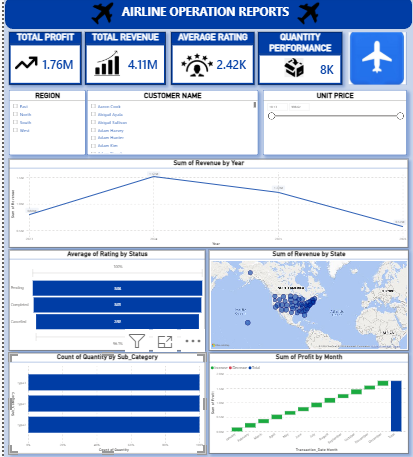

What the dashboard file says about the page in this screenshot:
{"tool":"powerbi","page":{"name":"Page 1","canvas":[1500,1800],"ordinal":0},"visuals":[{"type":"shape","box":[5,5,1470,115],"z":0},{"type":"lineChart","fields":{"Category":["02_Airline_Operations.Transaction_Date.Variation.Date Hierarchy.Year","02_Airline_Operations.Transaction_Date.Variation.Date Hierarchy.Quarter","02_Airline_Operations.Transaction_Date.Variation.Date Hierarchy.Month","02_Airline_Operations.Transaction_Date.Variation.Date Hierarchy.Day"],"Y":["Sum(02_Airline_Operations.Revenue)"]},"box":[20,592,1460,324],"z":1000},{"type":"cardVisual","title":"TOTAL REVENUE","fields":{"Data":["Sum(02_Airline_Operations.Revenue)"]},"box":[297.5,127.5,295,192.5],"z":2000},{"type":"cardVisual","title":"TOTAL PROFIT","fields":{"Data":["Sum(02_Airline_Operations.Profit)"]},"box":[17.5,127.5,265,192.5],"z":3000},{"type":"cardVisual","title":"AVERAGE RATING","fields":{"Data":["Sum(02_Airline_Operations.Rating)"]},"box":[610,127.5,305,192.5],"z":4000},{"type":"cardVisual","title":"QUANTITY PERFORMANCE","fields":{"Data":["Sum(02_Airline_Operations.Quantity)"]},"box":[930,127.5,307.5,192.5],"z":5000},{"type":"textbox","box":[322.5,20,830,80],"z":6000},{"type":"image","box":[1260,127.5,212.5,192.5],"z":7000},{"type":"slicer","title":"REGION","fields":{"Values":["02_Airline_Operations.Region"]},"box":[18,342,280,238],"z":8000},{"type":"slicer","title":"CUSTOMER NAME","fields":{"Values":["02_Airline_Operations.Customer_Name"]},"box":[304,342,626,238],"z":9000},{"type":"image","box":[323.3,186.7,135,101.7],"z":10000},{"type":"slicer","title":"UNIT PRICE","fields":{"Values":["02_Airline_Operations.Unit_Price"]},"box":[946,342,526,238],"z":11000},{"type":"image","box":[45,215,83.3,73.3],"z":12000},{"type":"image","box":[623.3,206.7,140,86.7],"z":13000},{"type":"funnel","fields":{"Category":["02_Airline_Operations.Status"],"Y":["Avg(02_Airline_Operations.Rating)"]},"box":[20,926,718,368],"z":14000},{"type":"image","box":[1008,224,102,70],"z":15000},{"type":"map","fields":{"Category":["02_Airline_Operations.State"],"Size":["Sum(02_Airline_Operations.Revenue)"]},"box":[750,926,730,368],"z":16000},{"type":"hundredPercentStackedBarChart","fields":{"Y":["CountNonNull(02_Airline_Operations.Quantity)"],"Category":["02_Airline_Operations.Sub_Category"]},"box":[20,1304,718,368],"z":17000},{"type":"waterfallChart","fields":{"Category":["02_Airline_Operations.Transaction_Date.Variation.Date Hierarchy.Month"],"Y":["Sum(02_Airline_Operations.Profit)"]},"box":[750,1304,730,368],"z":18000},{"type":"image","box":[250,6,222,106],"z":19000},{"type":"image","box":[1004,6,222,106],"z":20000}]}

Visuals, with their boxes on the page's 1500x1800 design canvas (x1, y1, x2, y2). These are canvas units, not pixel positions in the 413x457 screenshot, which may show the page scaled, cropped or inside an application window:
shape: locate(5, 5, 1475, 120)
lineChart - 02_Airline_Operations.Transaction_Date.Variation.Date Hierarchy.Year x 02_Airline_Operations.Transaction_Date.Variation.Date Hierarchy.Quarter: locate(20, 592, 1480, 916)
"TOTAL REVENUE" cardVisual: locate(298, 128, 592, 320)
"TOTAL PROFIT" cardVisual: locate(18, 128, 282, 320)
"AVERAGE RATING" cardVisual: locate(610, 128, 915, 320)
"QUANTITY PERFORMANCE" cardVisual: locate(930, 128, 1238, 320)
textbox: locate(322, 20, 1152, 100)
image: locate(1260, 128, 1472, 320)
"REGION" slicer: locate(18, 342, 298, 580)
"CUSTOMER NAME" slicer: locate(304, 342, 930, 580)
image: locate(323, 187, 458, 288)
"UNIT PRICE" slicer: locate(946, 342, 1472, 580)
image: locate(45, 215, 128, 288)
image: locate(623, 207, 763, 293)
funnel - 02_Airline_Operations.Status x Avg(02_Airline_Operations.Rating): locate(20, 926, 738, 1294)
image: locate(1008, 224, 1110, 294)
map - 02_Airline_Operations.State x Sum(02_Airline_Operations.Revenue): locate(750, 926, 1480, 1294)
hundredPercentStackedBarChart - CountNonNull(02_Airline_Operations.Quantity) x 02_Airline_Operations.Sub_Category: locate(20, 1304, 738, 1672)
waterfallChart - 02_Airline_Operations.Transaction_Date.Variation.Date Hierarchy.Month x Sum(02_Airline_Operations.Profit): locate(750, 1304, 1480, 1672)
image: locate(250, 6, 472, 112)
image: locate(1004, 6, 1226, 112)
